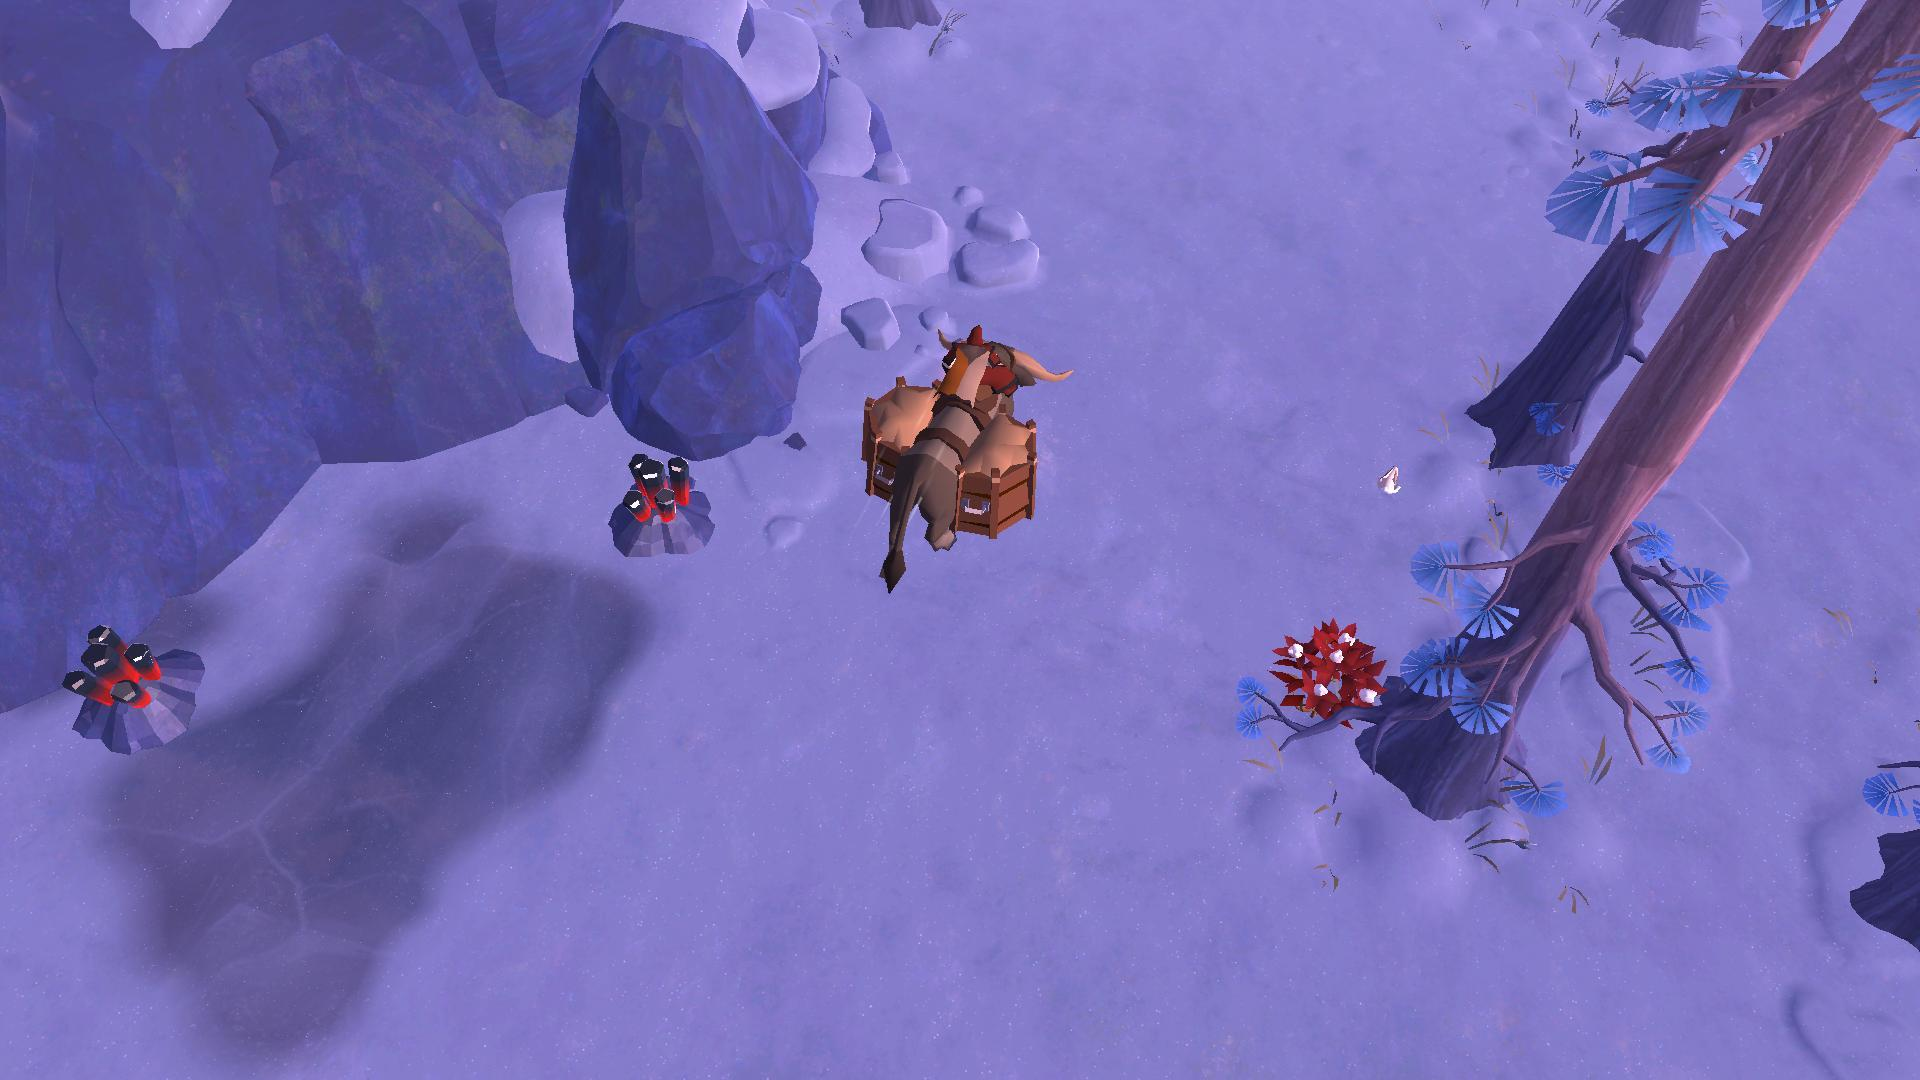fiber_t5: (1274, 617, 1391, 725)
ore_t5: (61, 617, 162, 713), (613, 452, 700, 531)
